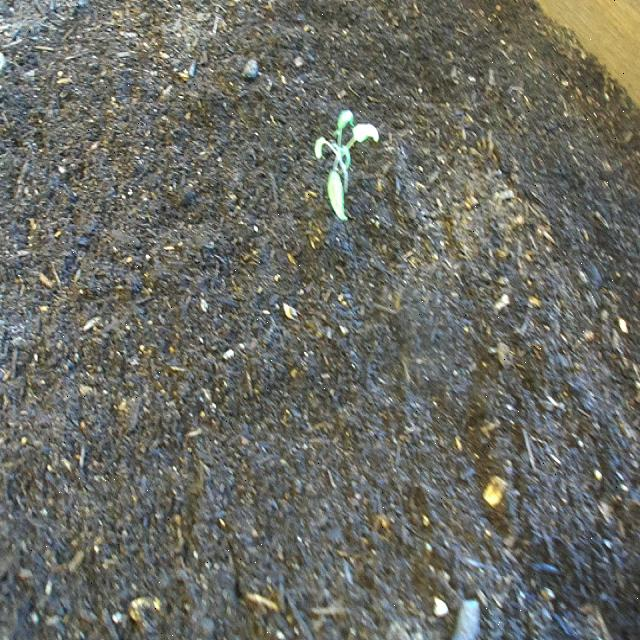Healthy: (307, 102, 393, 230)
